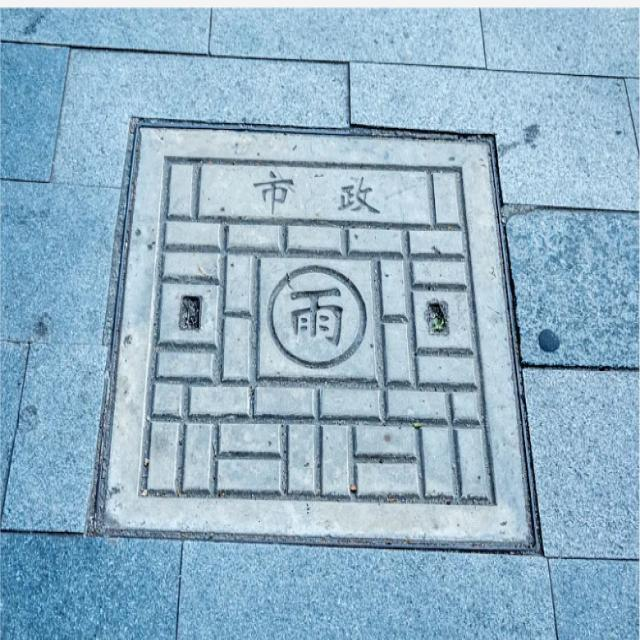manhole: (96, 120, 536, 549)
